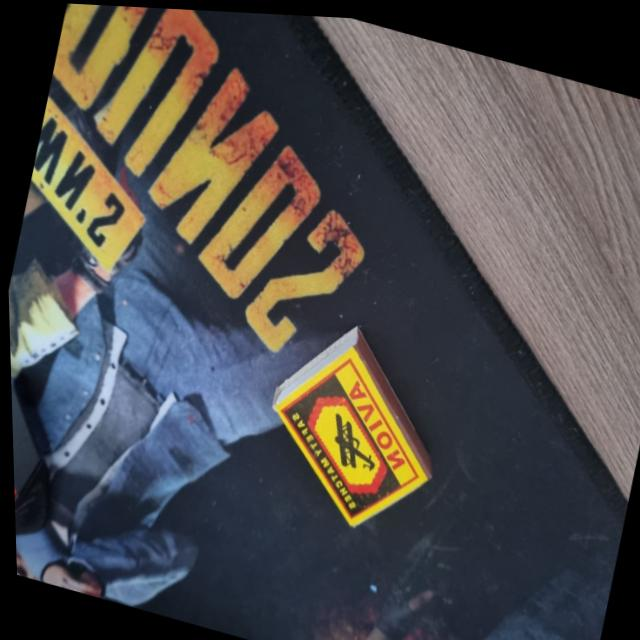match: (242, 300, 460, 546)
